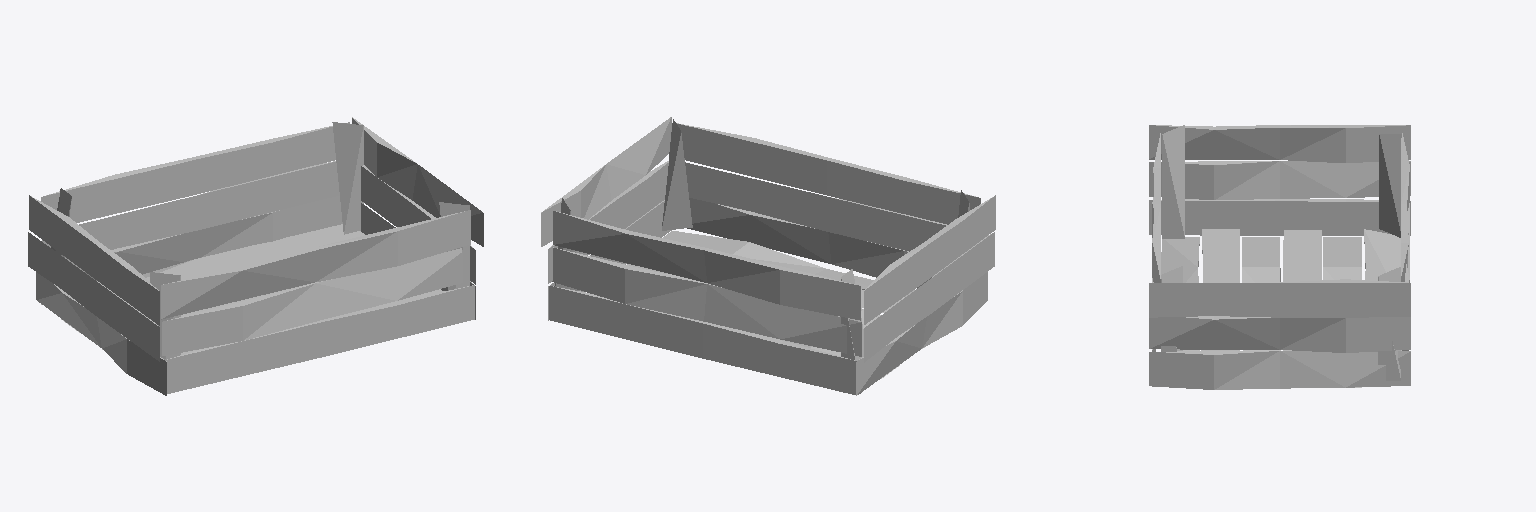
Rendered from Crate_LOD1.obj.
3 renders of one model, left to right at view 1: azimuth 30°, elevation 25°; view 2: azimuth 150°, elevation 25°; view 3: azimuth 270°, elevation 25°, orthographic.
Parts seen in each view (by area): view 1: Crate; view 2: Crate; view 3: Crate.
Part boxes in pixels (x1,y1,x2,y2): Crate: (28,117,483,395); Crate: (541,117,995,395); Crate: (1149,125,1410,389).
Bounding box in the file's own units: 0.8162 × 0.2718 × 0.5732.